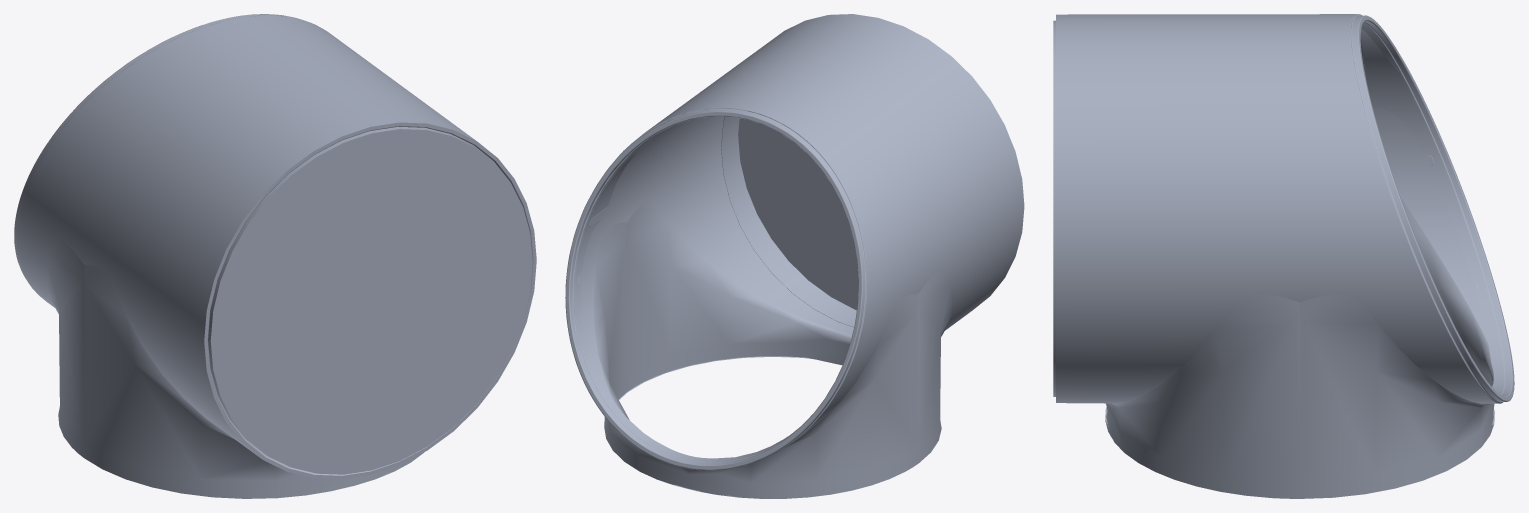
File: ur3e_scaled_34.obj
3 views of the same model, side by side, from view 1: azimuth 30°, elevation 25°; view 2: azimuth 150°, elevation 25°; view 3: azimuth 270°, elevation 25° (orthographic). The views are drawn at different scales.
Bounding box in the file's own units: 0.09 × 0.0979 × 0.1064.
